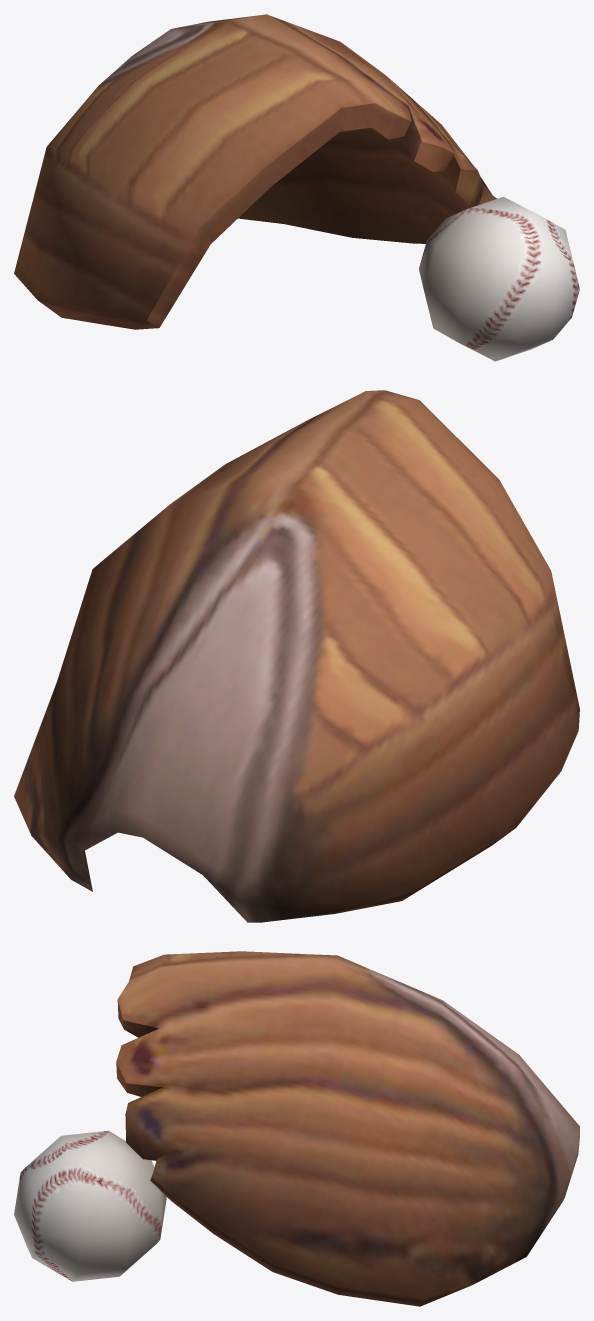
File: BaoSheShouFaShi_bangqiushoutao_01.FBX
3 views of the same model, one above another, from view 1: azimuth 30°, elevation 25°; view 2: azimuth 150°, elevation 25°; view 3: azimuth 270°, elevation 25° (orthographic). The views are drawn at different scales.
Parts seen in each view (by area): view 1: BaoSheShouFaShi_bangqiushoutao_01; view 2: BaoSheShouFaShi_bangqiushoutao_01; view 3: BaoSheShouFaShi_bangqiushoutao_01.
Boxes of the visible parts, x1=… form: BaoSheShouFaShi_bangqiushoutao_01: x1=14, y1=14, x2=579, y2=361; BaoSheShouFaShi_bangqiushoutao_01: x1=14, y1=390, x2=579, y2=922; BaoSheShouFaShi_bangqiushoutao_01: x1=14, y1=951, x2=579, y2=1306.
Size of the model in its own units: 185 by 130 by 239.
Materials: 1 (1 with a texture image).
